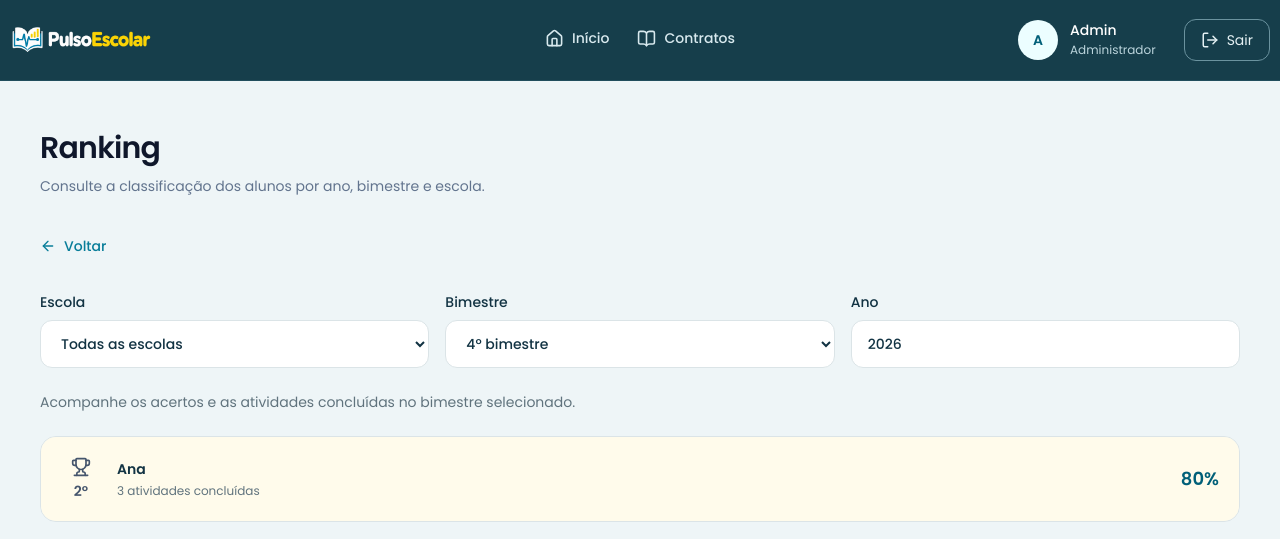
Test: admin usa ranking real, preserva posições e filtra por escola e período
The width and height of the screenshot is (1280, 539).
expect the text "Ana" is shown: met, box [117,459,146,479]
expect the text "2º" is shown: met, box [71,457,91,501]
Select "Escola Sete" in the dropdown labelled "Escola": (235, 344) [40,320,429,368]
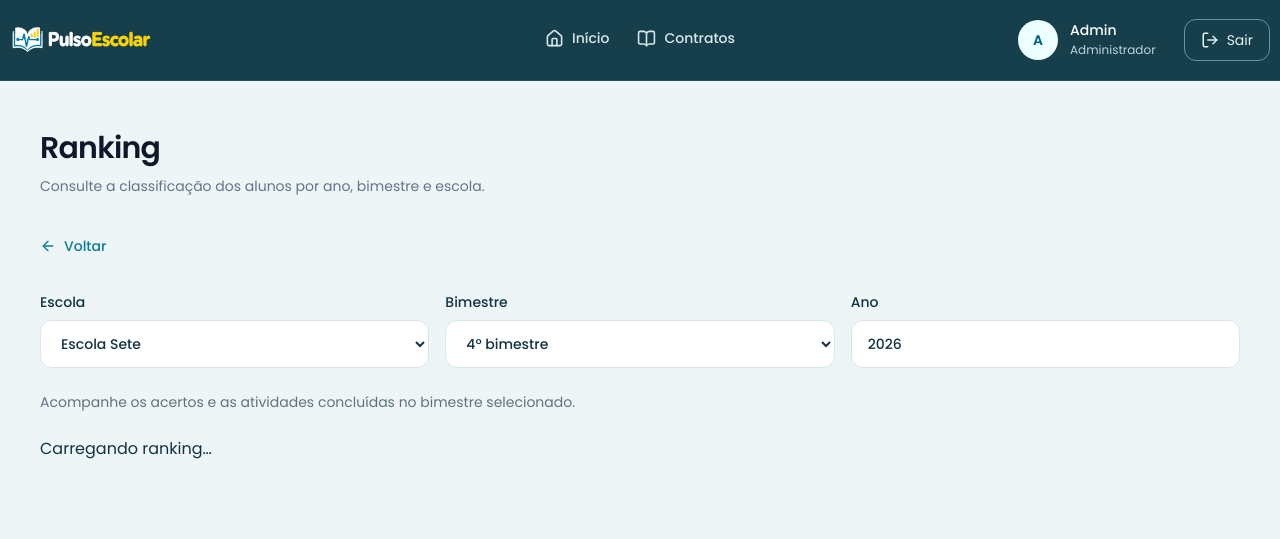
Replace the text in the number field labelled "Ano" with "2025": (1045, 344) [851,320,1240,368]
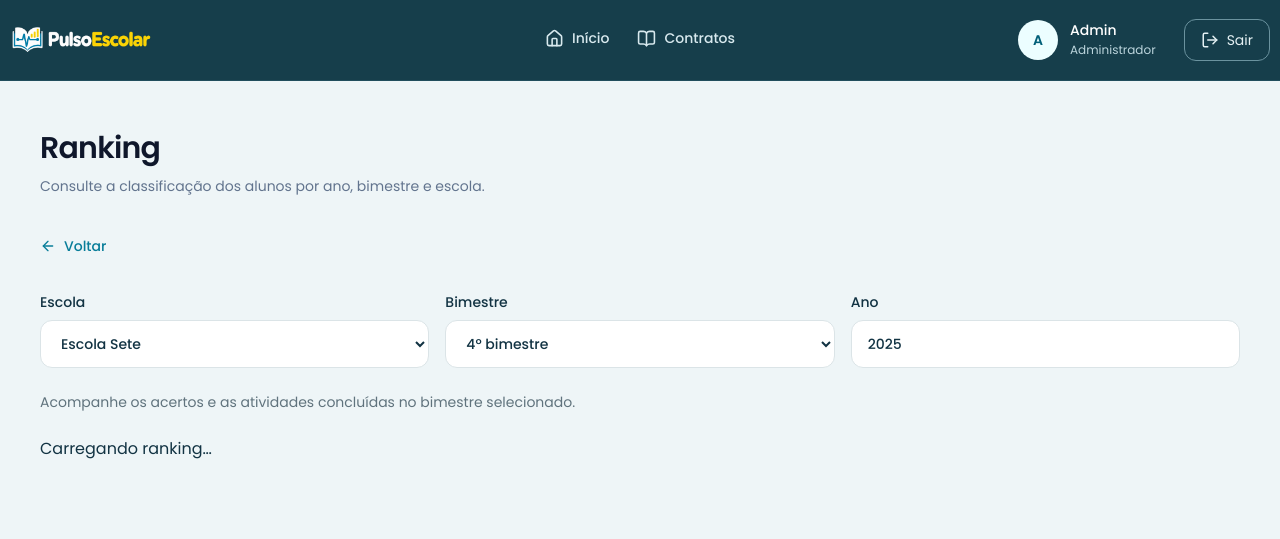
Select "2º bimestre" in the dropdown labelled "Bimestre": (640, 344) [445,320,835,368]
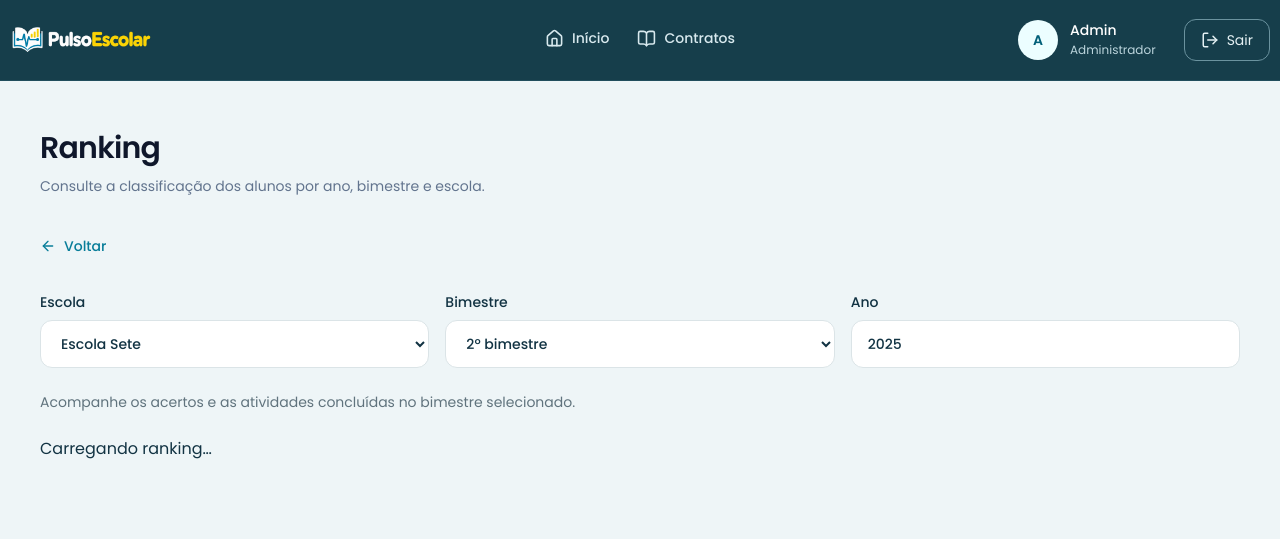
Select "Todas as escolas" in the dropdown labelled "Escola": (235, 344) [40,320,429,368]
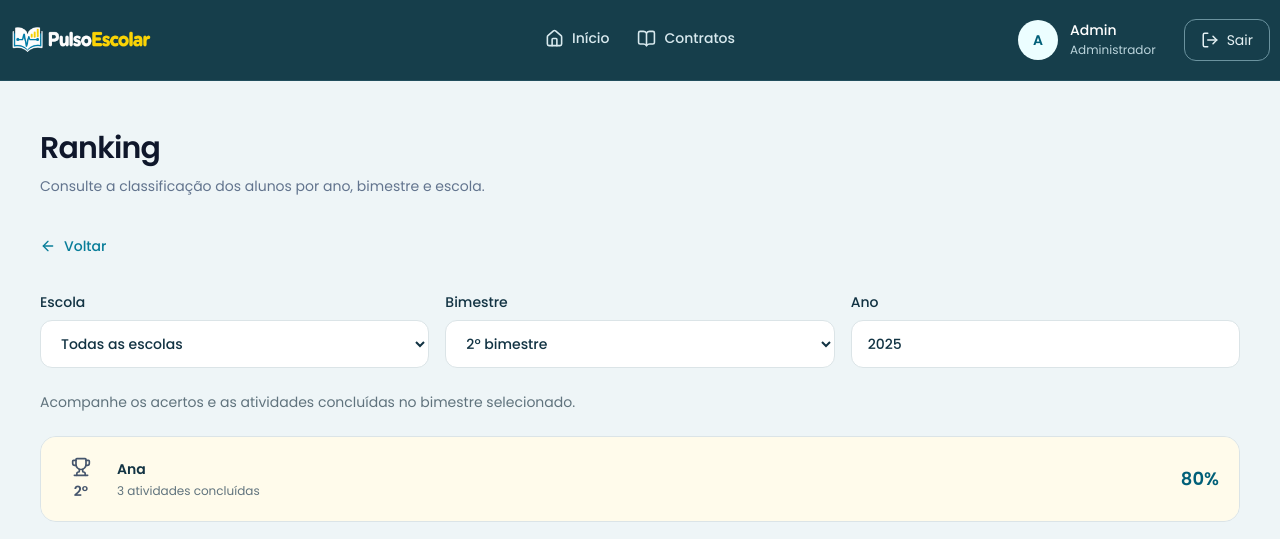
Replace the text in the number field labelled "Ano" with "0": (1045, 344) [851,320,1240,368]
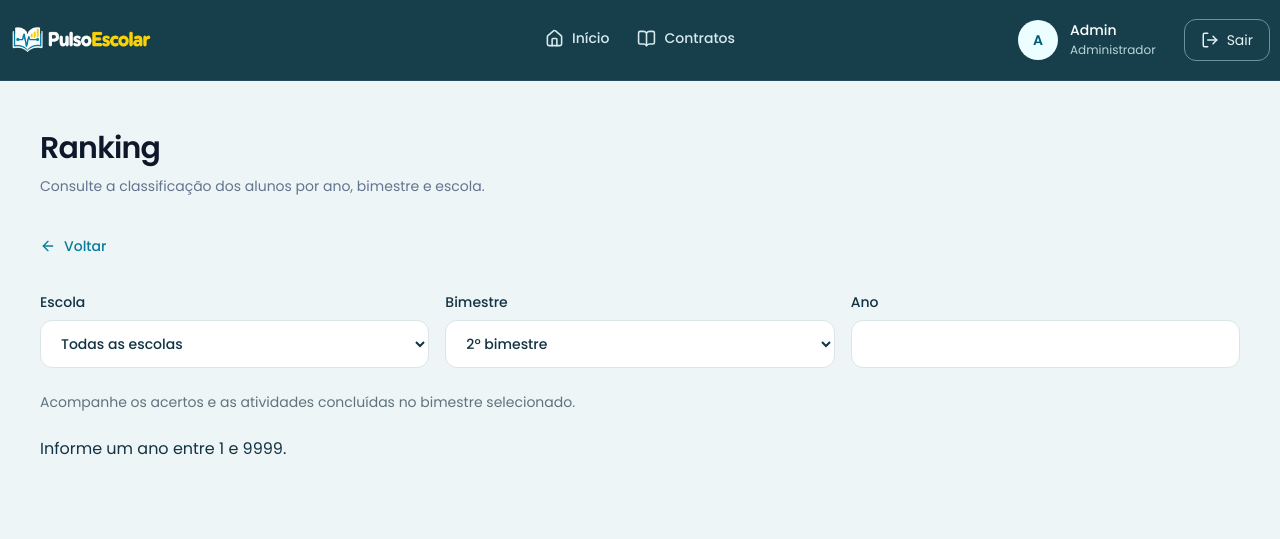
expect the message reads "Informe um ano entre 1 e 9999.": met, box [40,437,286,460]
